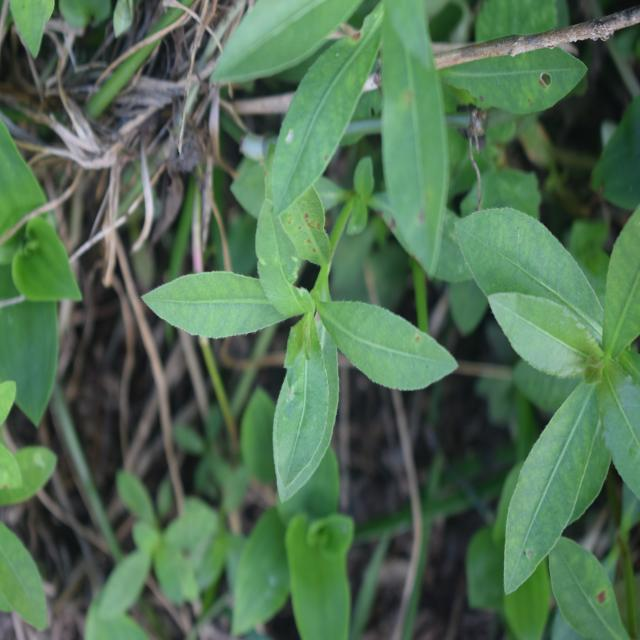Alligatorweed: (164, 206, 455, 502), (436, 176, 640, 566)
